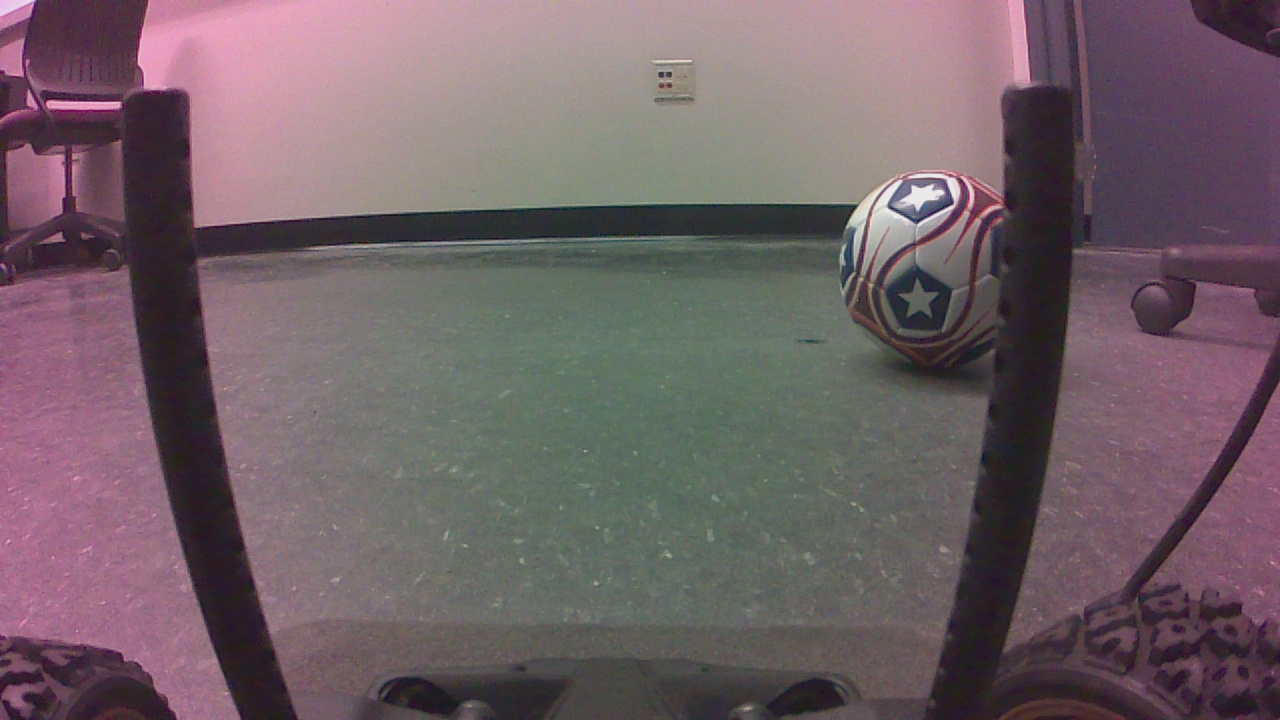ball: (840, 172, 1013, 370)
